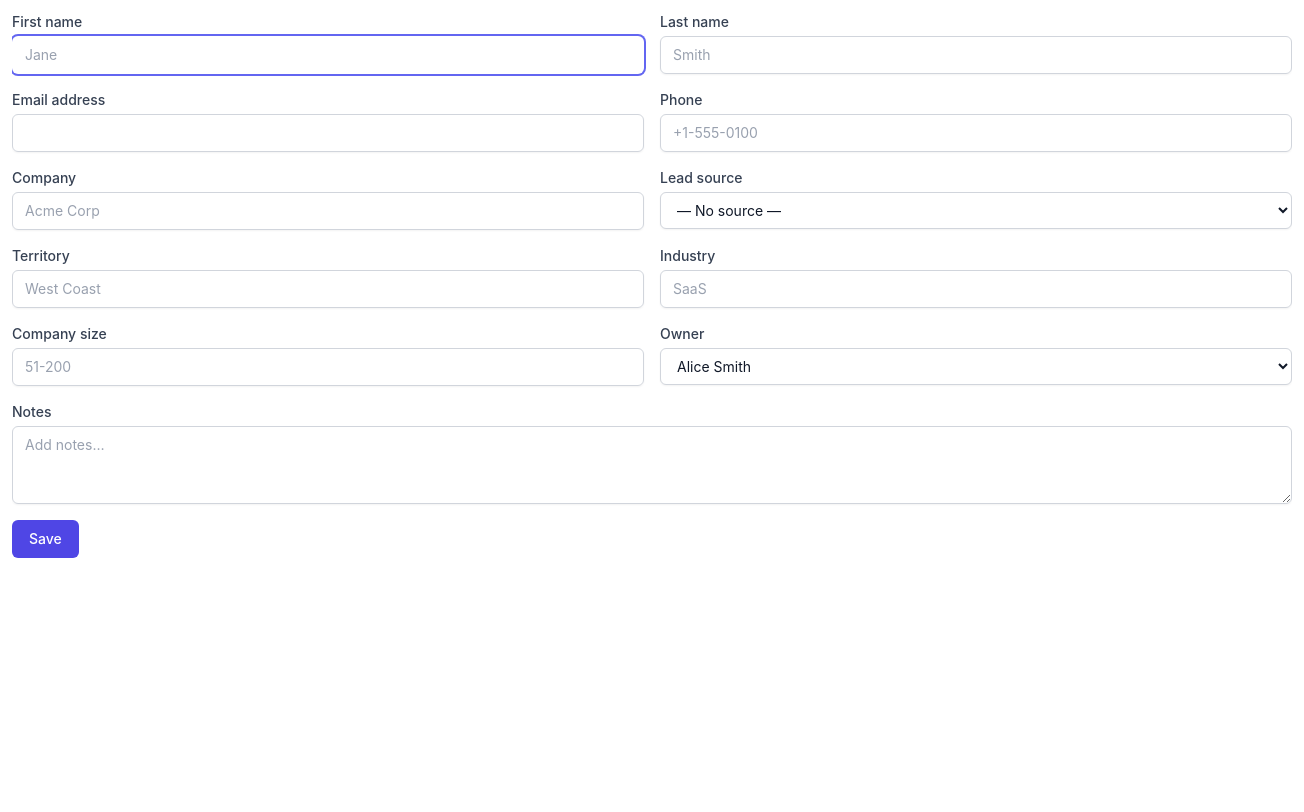
Test: LeadForm › routing suggestion panel › renders a suggestion and applies it to the owner field on click
Step 1. Type "West" into the field with test id "lead-territory" → (328, 289), box [12,270,644,308]
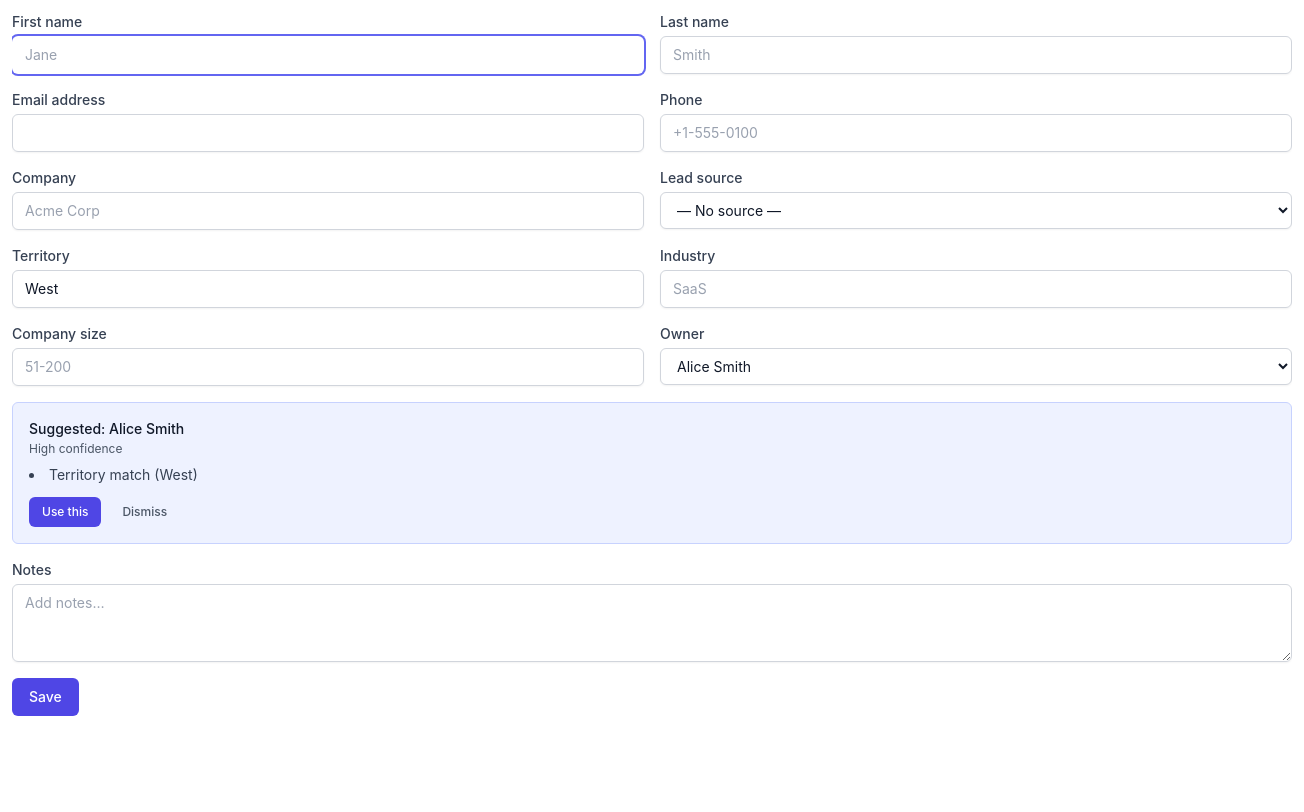
expect the element with test id "lead-routing-suggestion-panel" is shown: met, box [12,402,1292,544]
expect the list item "Territory match (West)" is shown: met, box [49,466,198,483]
Step 2. Click the button with test id "lead-routing-suggestion-apply" → (65, 512), box [29,497,101,527]
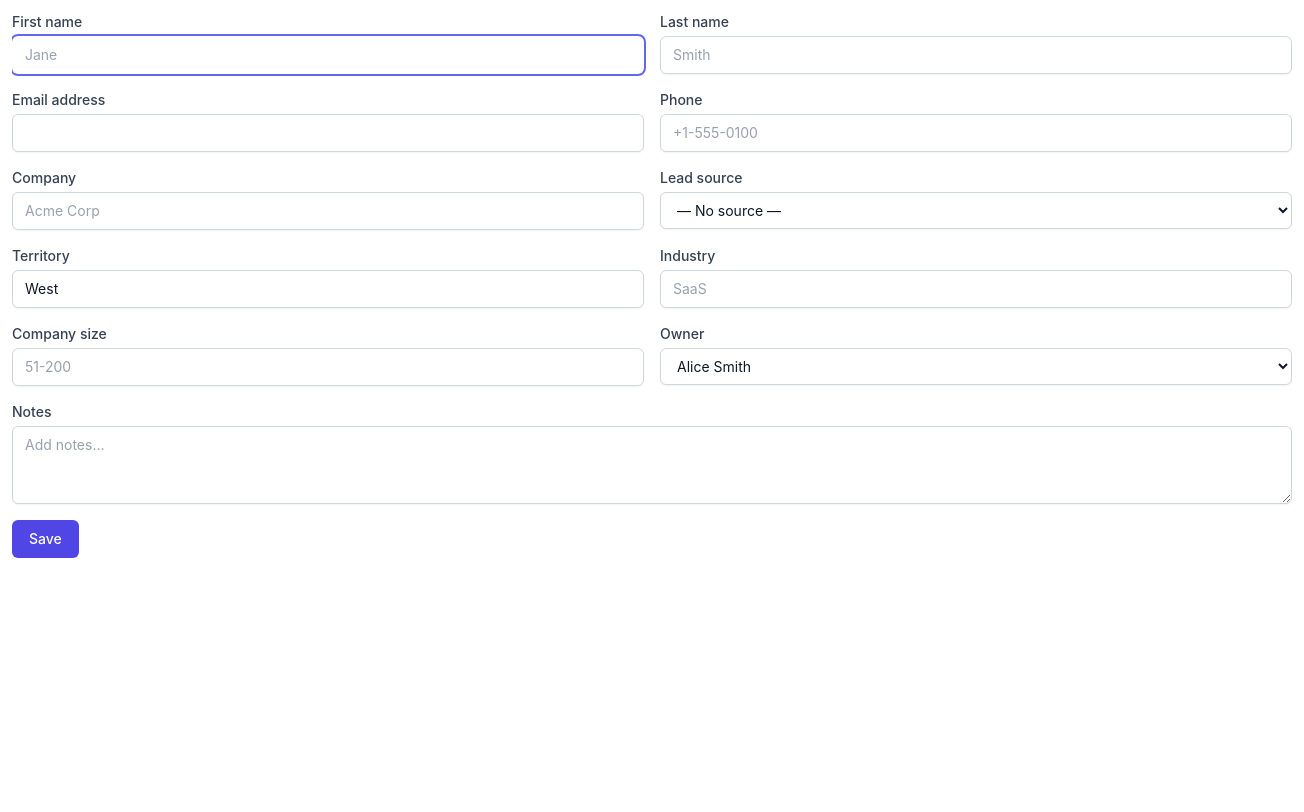
expect the dropdown with test id "lead-owner-select" shows "Alice Smith": met, box [660,348,1292,385]
expect the element with test id "lead-routing-suggestion-panel" is gone: met
